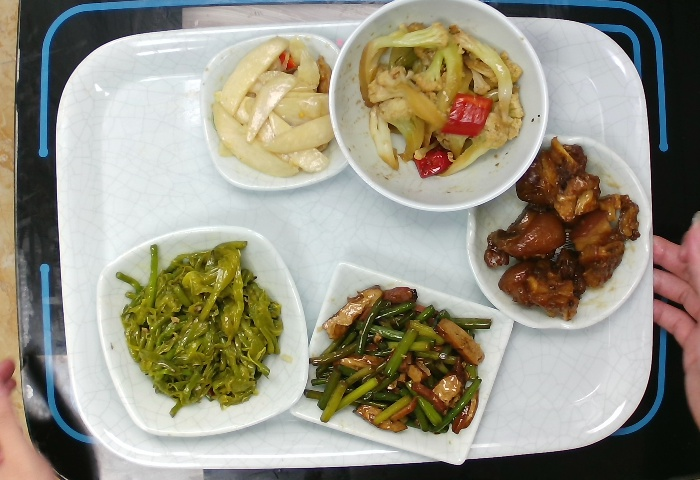JYsf-Ao_Yuan_Wan: (465, 124, 654, 339)
JYsf-Fan_Wan: (326, 1, 554, 218)
JYsf-Si_Fang_Die: (197, 26, 352, 198)
WCQzf-Da_Si_Fang_Die: (89, 222, 311, 444)
WCQzf-Ru_Ci_Si_Fang_Die: (290, 255, 516, 473)
